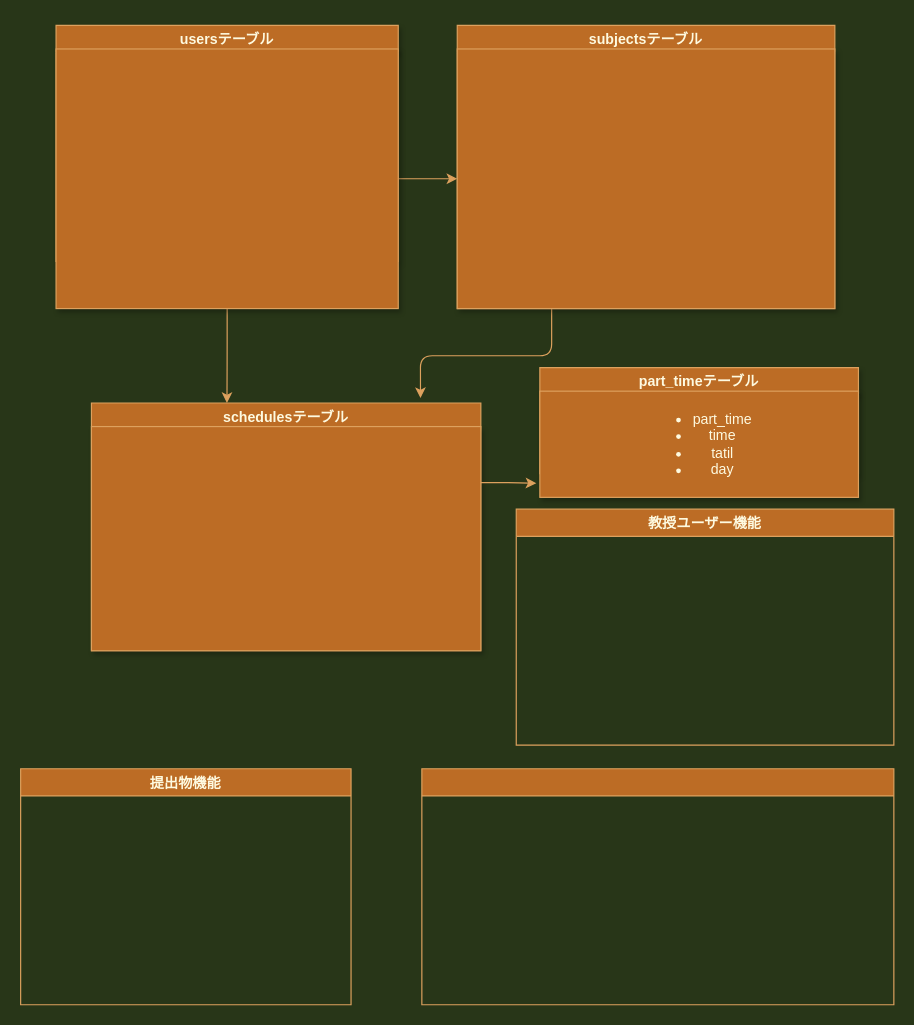
The diagram is 914 pixels wide and 1025 high, and some of its shapes have lost their labels. Each missing label, with the centre of its shape:
"nickname name age birthday grade hobby university undergraduate study_subject" belongs at [227,180].
"subject unit unit_sum priod_genre grade_genre result_genre user_id" belongs at [646,180].
"user_id subject_id part_time_id year month days" belongs at [287,540].
"ゼミルーム機能" belongs at [657,886].
